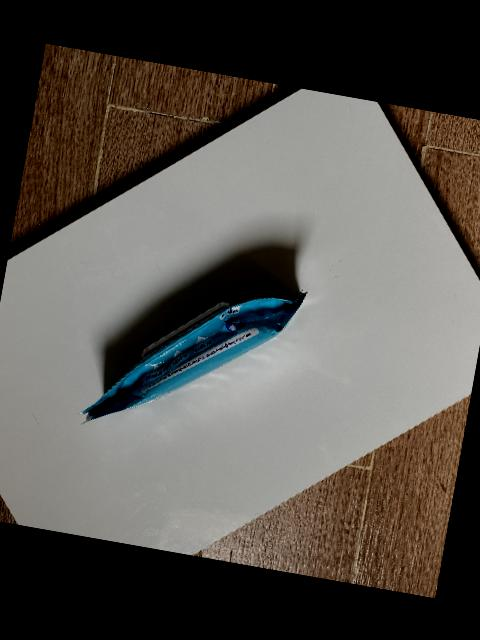Let-green_alcohol_wipes: (81, 290, 308, 423)
